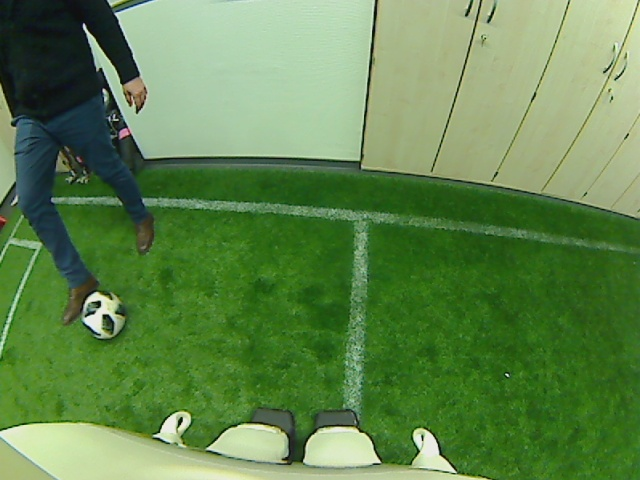ball: (79, 286, 126, 339)
